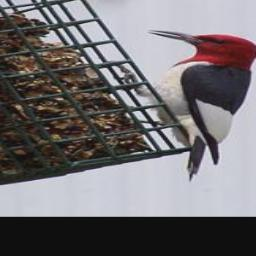Woodpecker: (117, 29, 256, 181)
